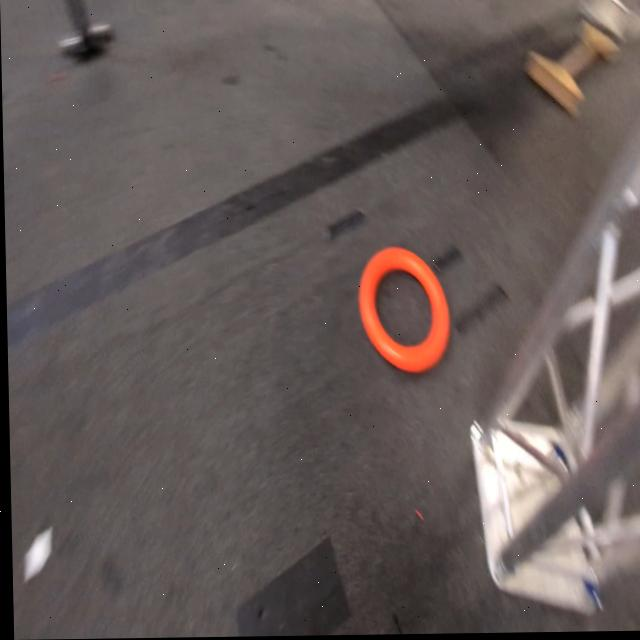note: (354, 252, 447, 375)
